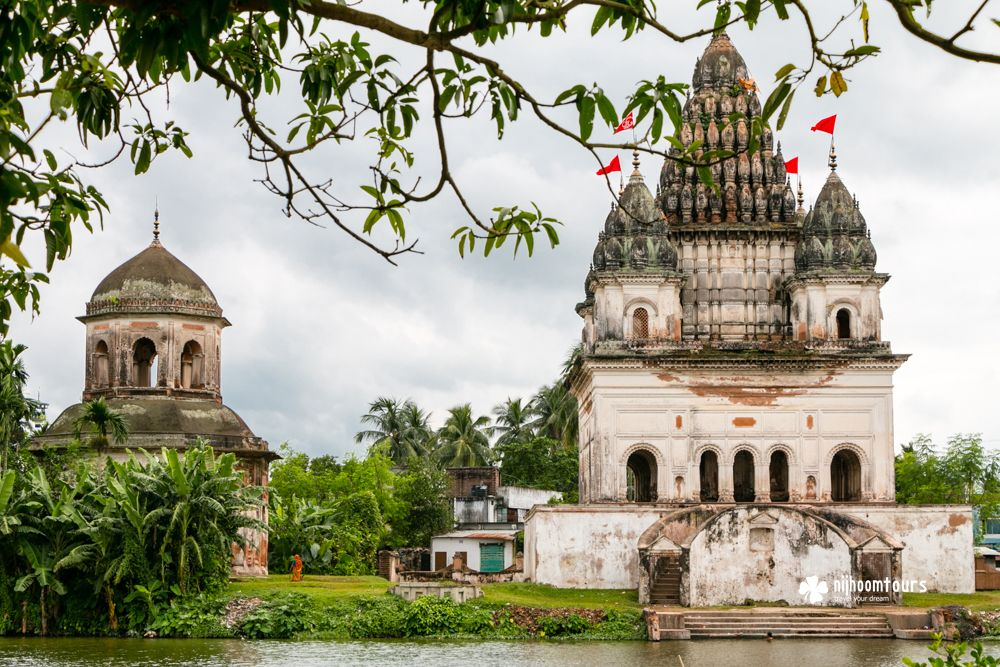Temple: (567, 30, 945, 592), (58, 202, 284, 574)
